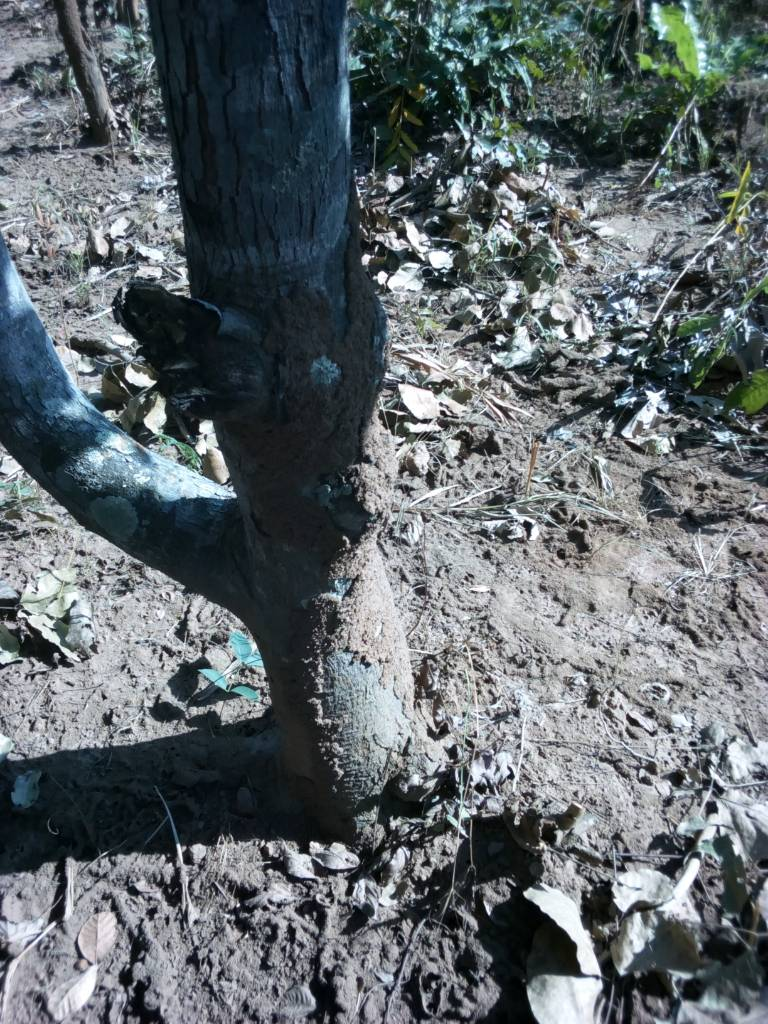Termites: (305, 274, 410, 785)
